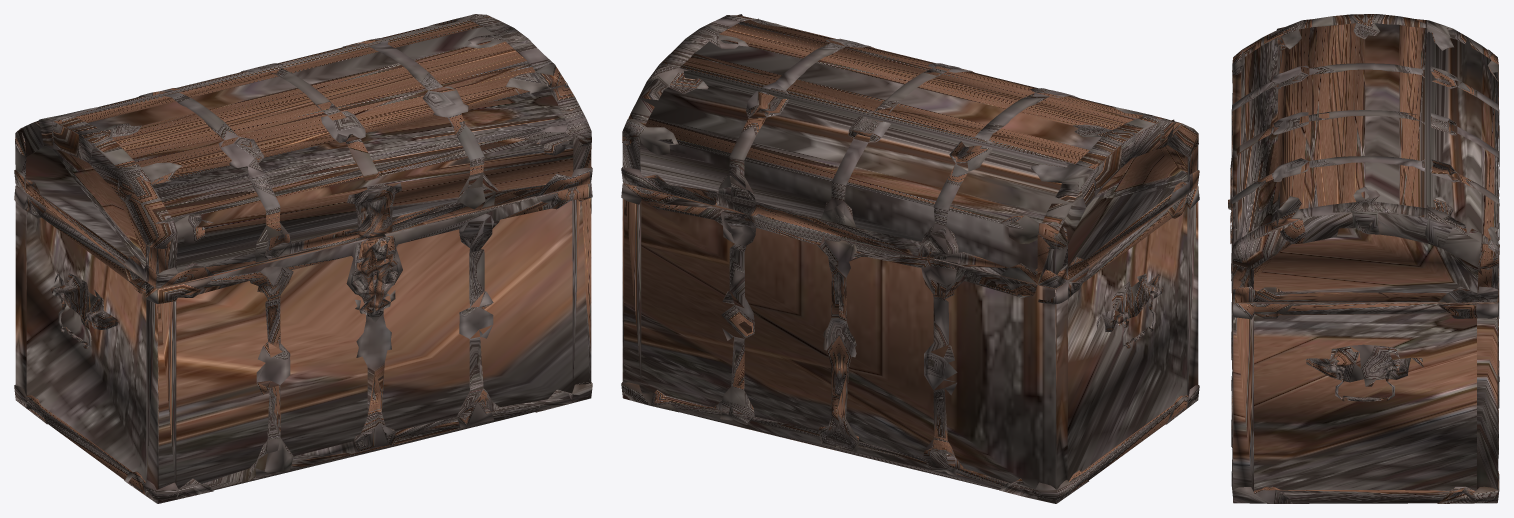
The model's file is treasure_chest_lod2.glb.
3 views of the same model, side by side, from view 1: azimuth 30°, elevation 25°; view 2: azimuth 150°, elevation 25°; view 3: azimuth 270°, elevation 25° (orthographic). The views are drawn at different scales.
Visible parts, largest first — view 1: treasure_chest_bottom, treasure_chest_lid, treasure_chest_lock; view 2: treasure_chest_bottom, treasure_chest_lid; view 3: treasure_chest_lid, treasure_chest_bottom, treasure_chest_handle_right.
Part boxes in pixels (x1,y1,x2,y2): treasure_chest_bottom: [14, 183, 592, 503]; treasure_chest_lid: [14, 14, 592, 288]; treasure_chest_lock: [351, 234, 399, 322]; treasure_chest_bottom: [621, 183, 1199, 503]; treasure_chest_lid: [621, 14, 1199, 287]; treasure_chest_lid: [1230, 14, 1499, 302]; treasure_chest_bottom: [1231, 135, 1499, 503]; treasure_chest_handle_right: [1322, 365, 1407, 401].
Size of the model in its own units: 0.9541 by 0.6172 by 0.5184.
Materials: 1 (1 with a texture image).
